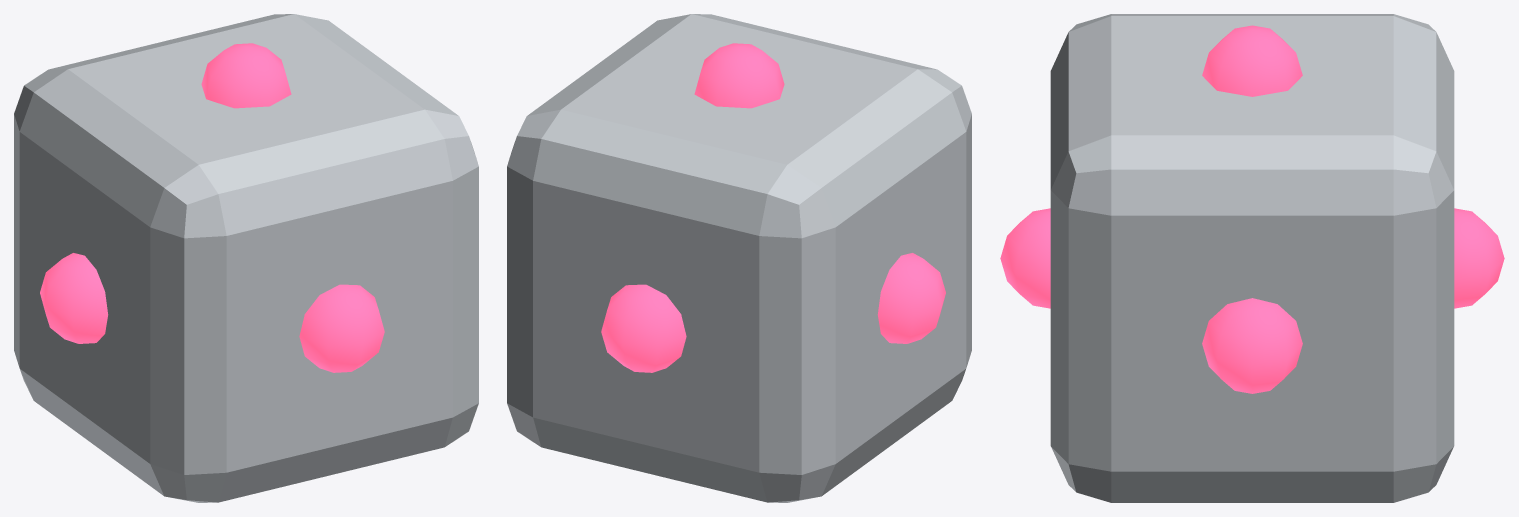
The model's file is DieShot.fbx.
3 renders of one model, left to right at view 1: azimuth 30°, elevation 25°; view 2: azimuth 150°, elevation 25°; view 3: azimuth 270°, elevation 25°, orthographic. The views are drawn at different scales.
Parts seen in each view (by area): view 1: Panel_Cube0, Eye_Pip3, Eye_Pip1, Eye_Pip4; view 2: Panel_Cube0, Eye_Pip2, Eye_Pip1, Eye_Pip4; view 3: Panel_Cube0, Eye_Pip0, Eye_Pip4, Eye_Pip2, Eye_Pip3.
Part boxes in pixels (left/top/right/bottom): Panel_Cube0: left=14, top=14, right=478, bottom=502; Eye_Pip3: left=299, top=284, right=384, bottom=372; Eye_Pip1: left=40, top=253, right=108, bottom=343; Eye_Pip4: left=201, top=43, right=291, bottom=108; Panel_Cube0: left=507, top=14, right=971, bottom=502; Eye_Pip2: left=601, top=284, right=686, bottom=372; Eye_Pip1: left=877, top=253, right=945, bottom=343; Eye_Pip4: left=694, top=43, right=784, bottom=108; Panel_Cube0: left=1050, top=14, right=1454, bottom=502; Eye_Pip0: left=1202, top=298, right=1302, bottom=393; Eye_Pip4: left=1202, top=25, right=1302, bottom=96; Eye_Pip2: left=1454, top=208, right=1504, bottom=308; Eye_Pip3: left=1000, top=208, right=1050, bottom=308.
Size of the model in its own units: 0.25 by 0.25 by 0.25.
